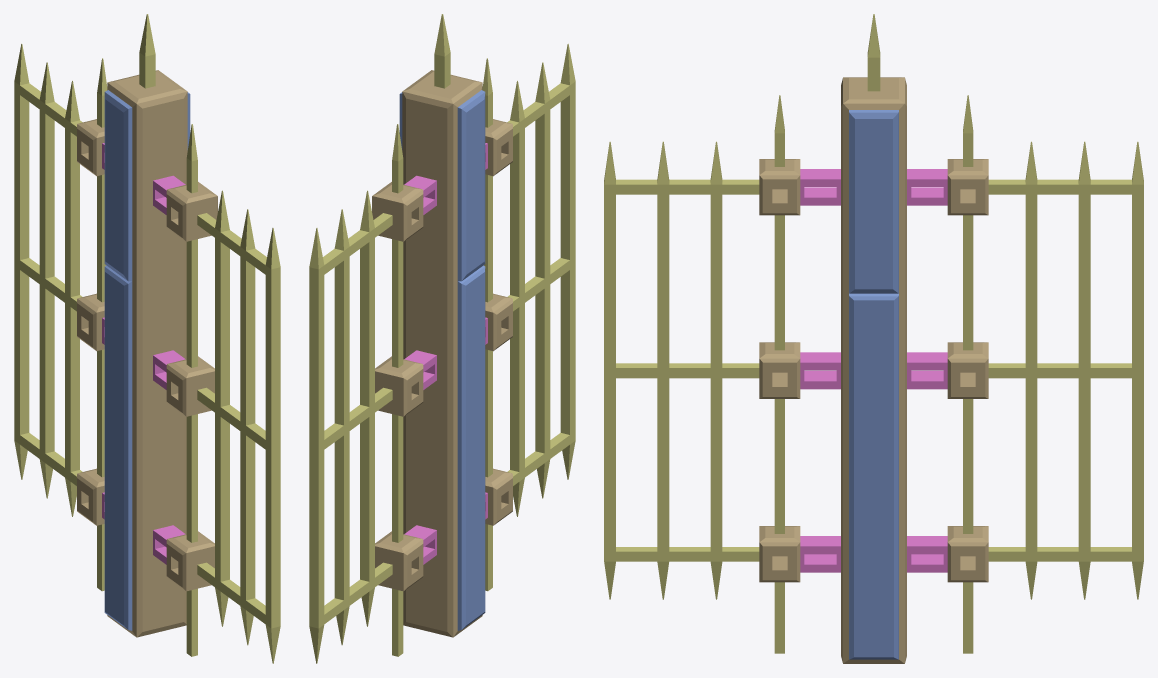
File: TechFence.fbx
3 renders of one model, left to right at view 1: azimuth 30°, elevation 25°; view 2: azimuth 150°, elevation 25°; view 3: azimuth 270°, elevation 25°, orthographic. The views are drawn at different scales.
Parts seen in each view (by area): view 1: TechFence2; view 2: TechFence2; view 3: TechFence2.
Boxes of the visible parts, box(x1,y1,x2,y2) form: TechFence2: box(14, 14, 280, 663); TechFence2: box(309, 14, 575, 663); TechFence2: box(604, 14, 1143, 663).
Bounding box in the file's own units: 38.83 × 342 × 262.
